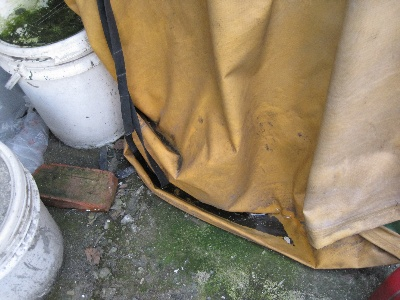bucket: (1, 1, 124, 149)
plastic_bag: (123, 1, 400, 260)
